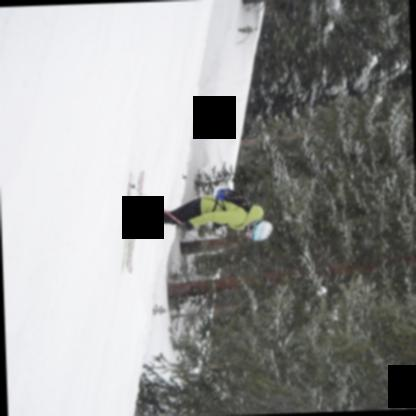backpack: (215, 188, 249, 212)
